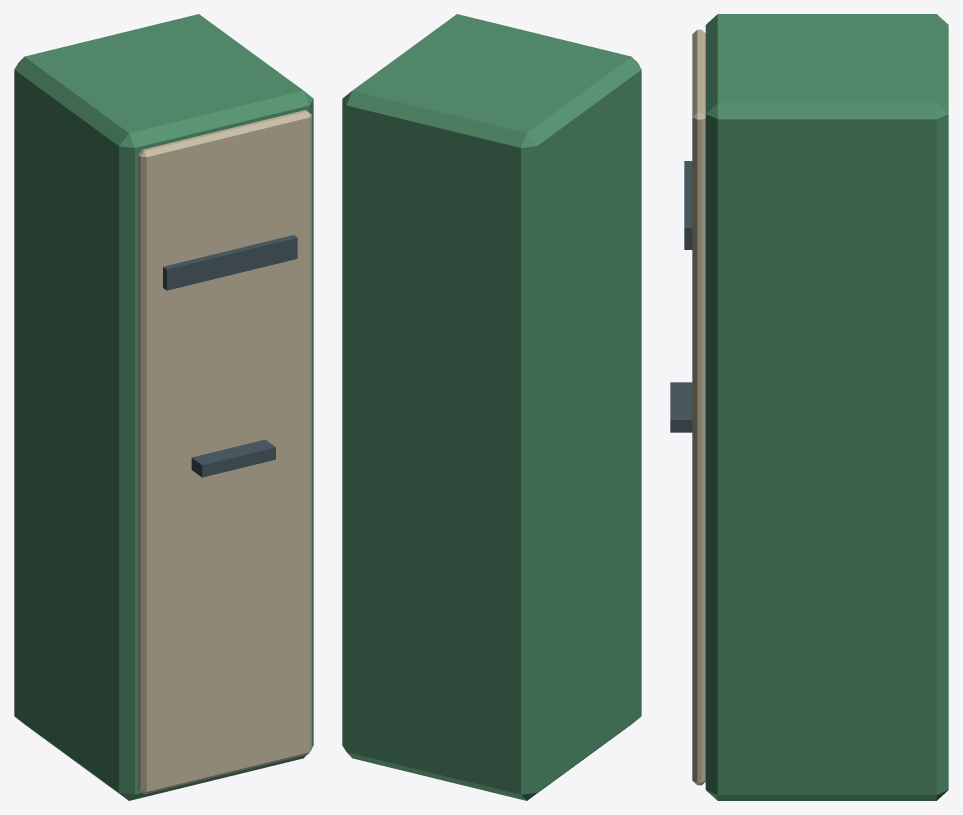
File: postbox.glb
3 renders of one model, left to right at view 1: azimuth 30°, elevation 25°; view 2: azimuth 150°, elevation 25°; view 3: azimuth 270°, elevation 25°, orthographic. The views are drawn at different scales.
Parts seen in each view (by area): view 1: postbox; view 2: postbox; view 3: postbox.
Boxes of the visible parts, x1,y1,x2,y2 form: postbox: [14, 14, 313, 800]; postbox: [342, 14, 641, 800]; postbox: [670, 14, 948, 800].
Bounding box in the file's own units: 0.58 × 1.9 × 0.6875.
